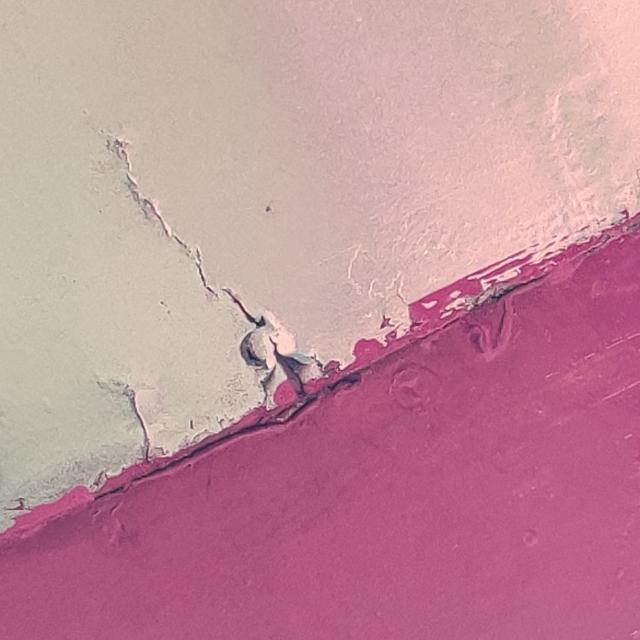Crack: (221, 288, 326, 408), (98, 380, 185, 462)
